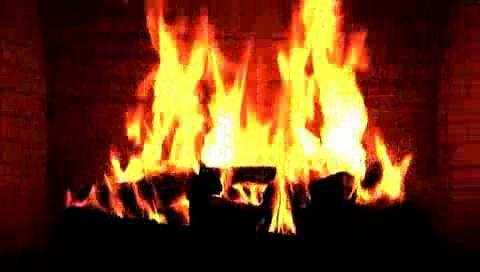fire: (113, 7, 409, 232)
